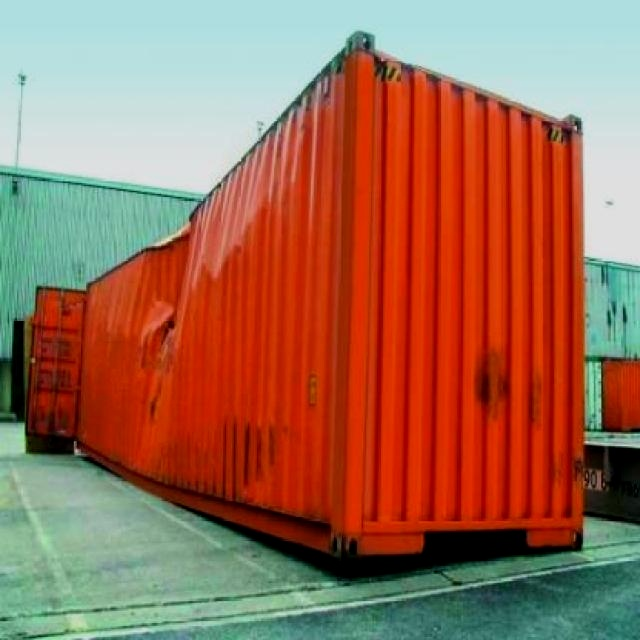Dent: (130, 283, 203, 407)
Hole: (162, 321, 179, 355)
Rusty: (455, 327, 550, 446), (218, 409, 292, 498)
